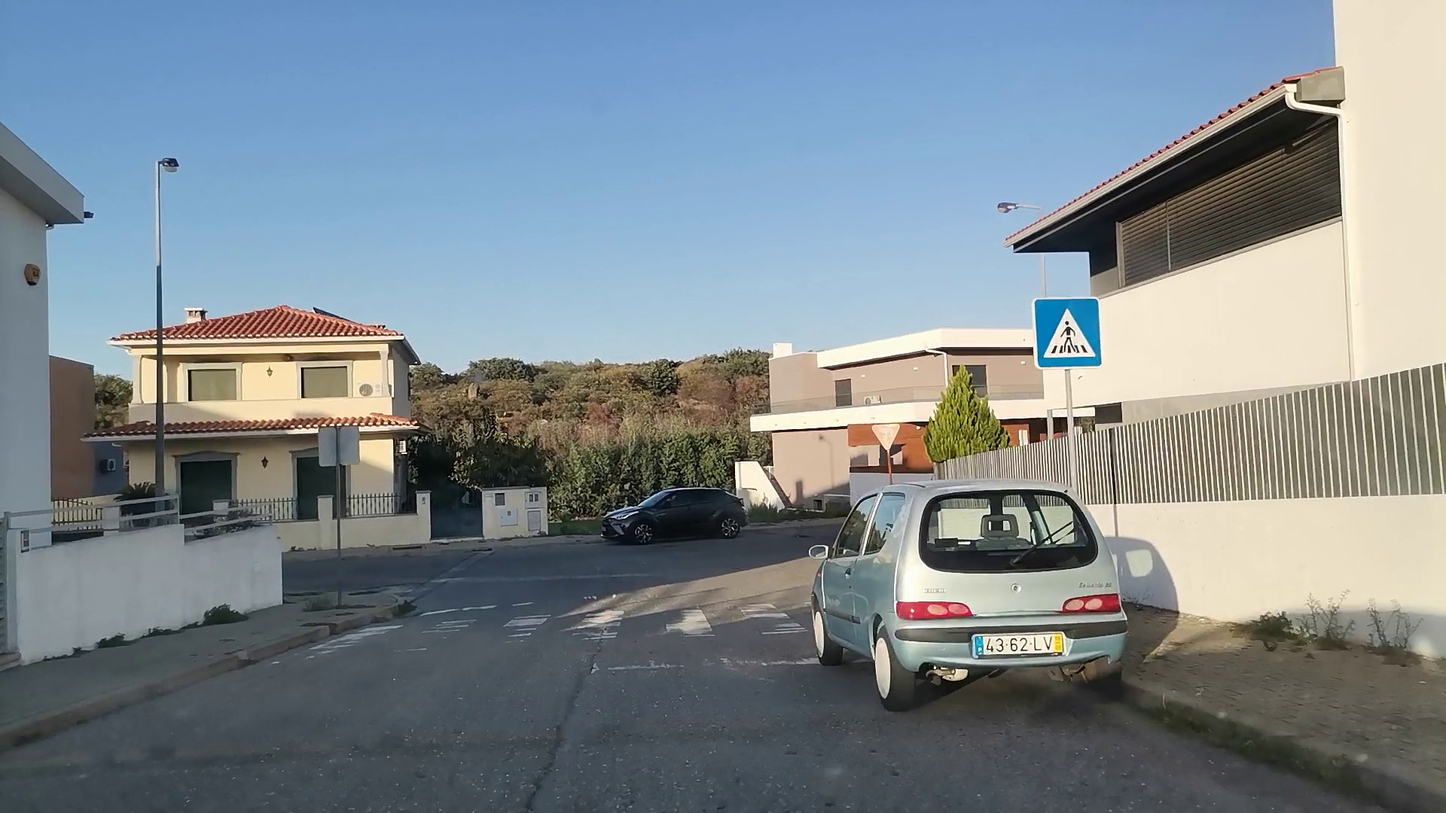Stairs: (297, 597, 807, 659)
